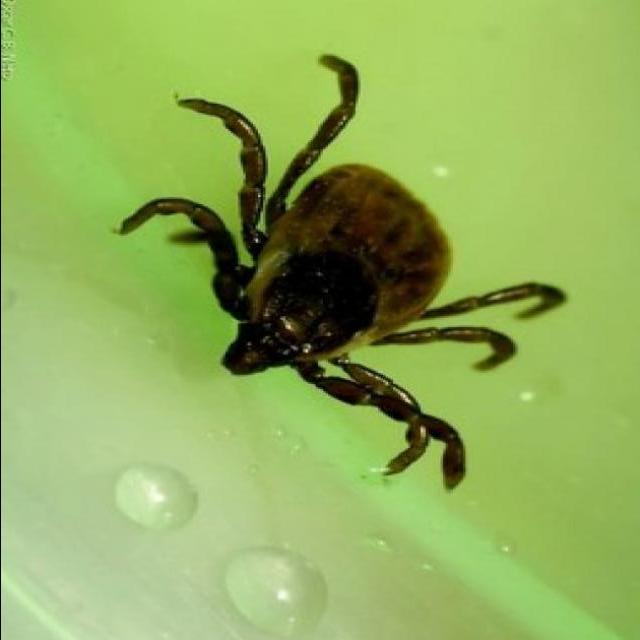Rhipicephalus Sanguineus-F: (112, 56, 567, 494)
